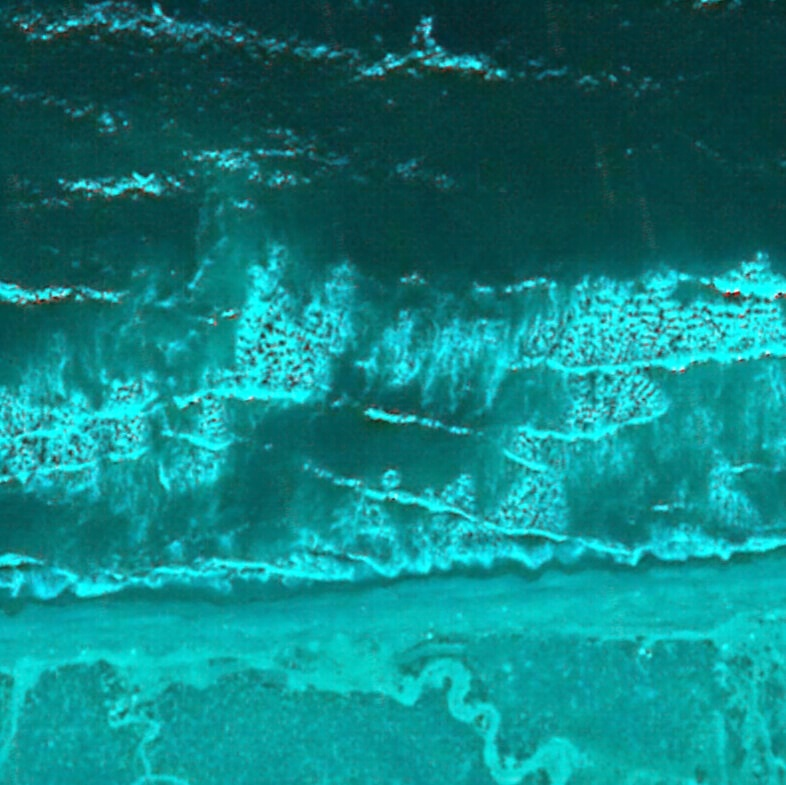rip_current: (243, 213, 595, 520)
